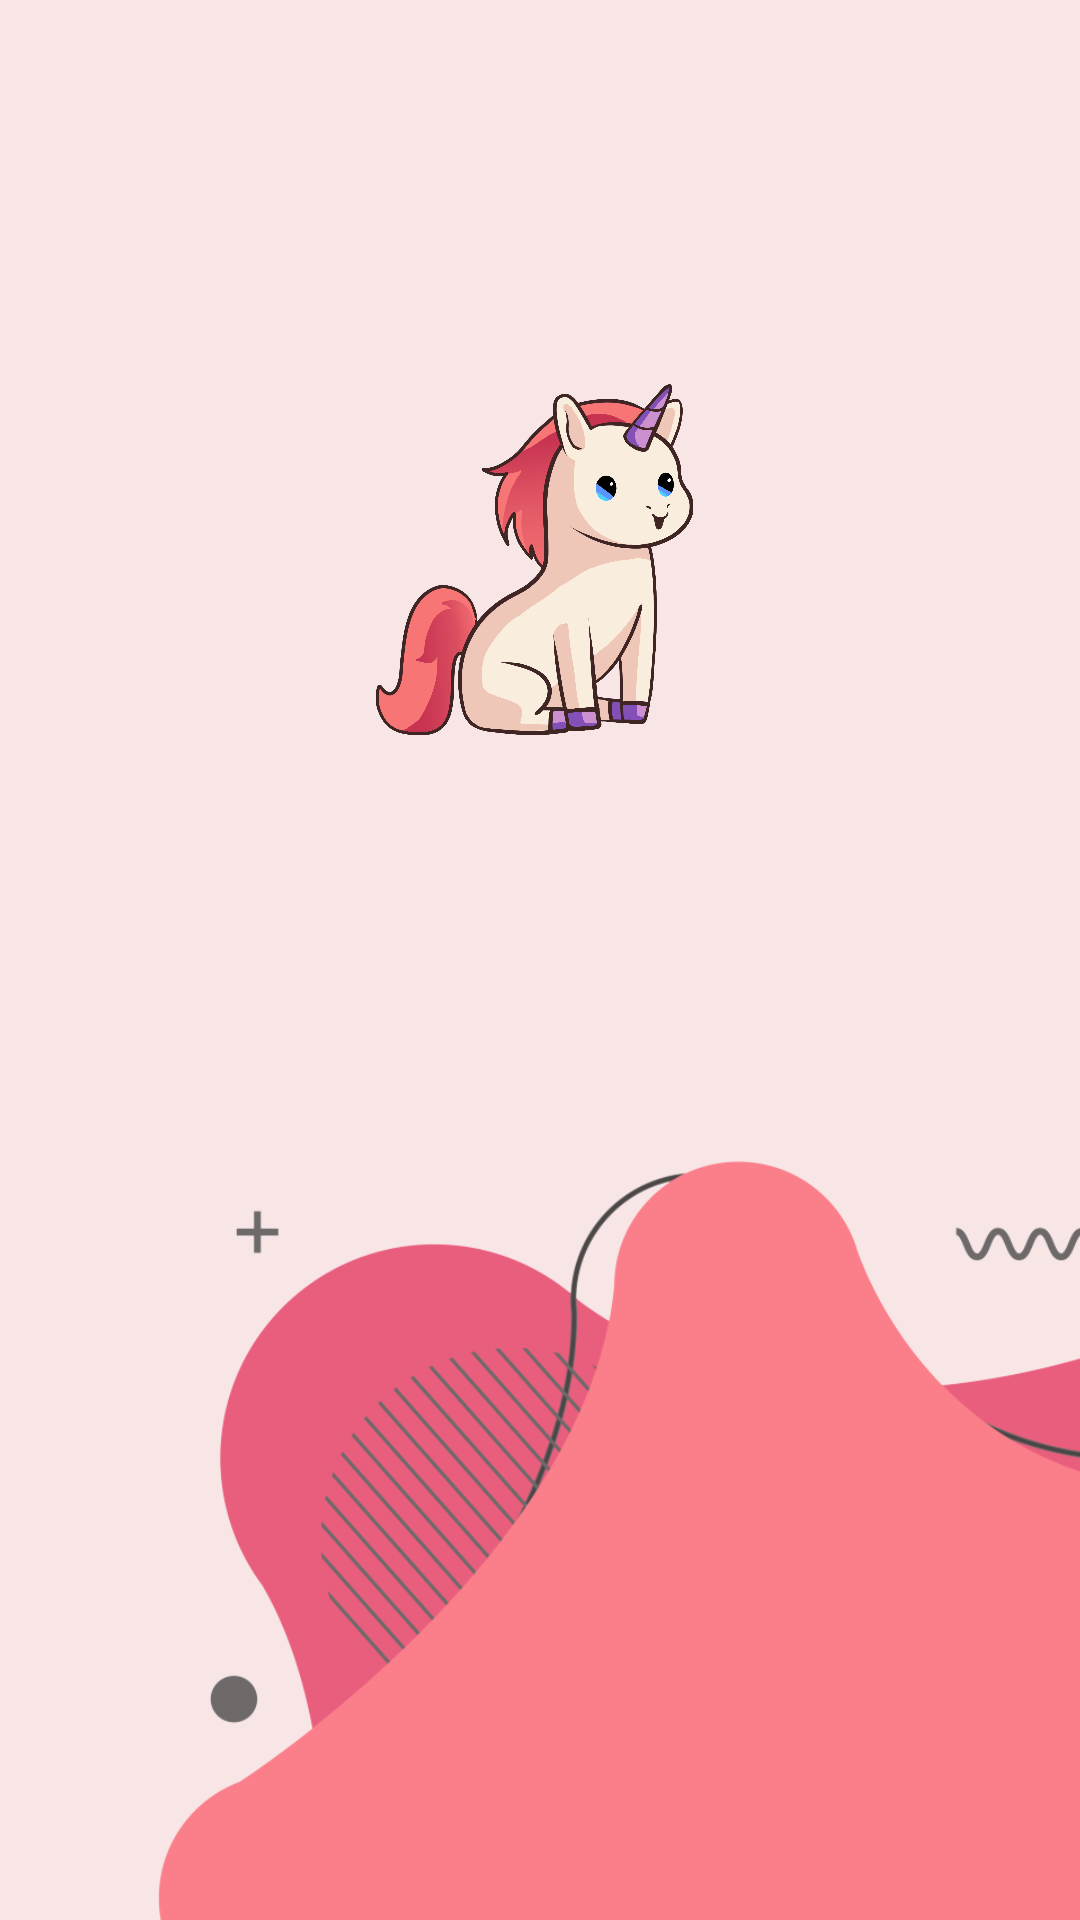

Screen size 1080x1920. Icon name, then its box in pixels as box(x1, y1, x2, y2):
unicorno prova stud: box(376, 384, 693, 735)
